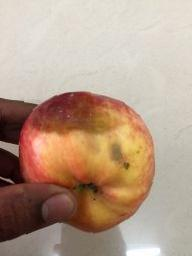Apple Semirotten: (7, 76, 165, 244)
